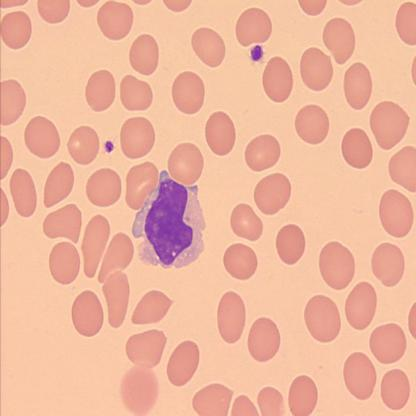Atypical lymphocyte: (131, 170, 205, 270)
